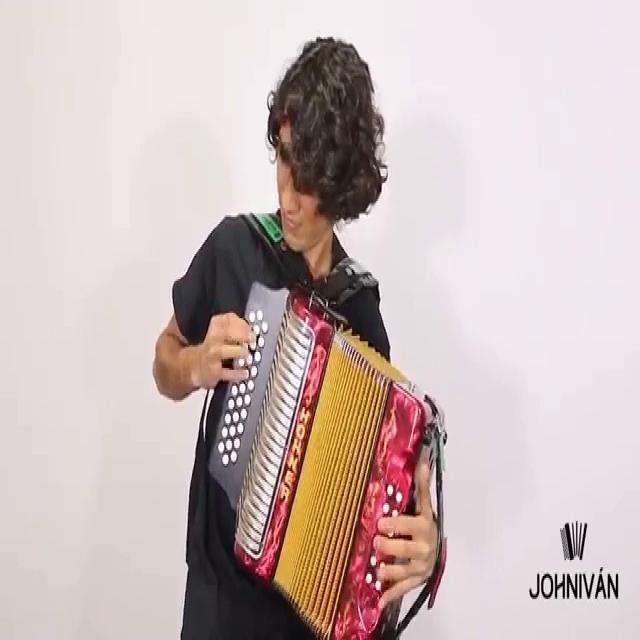Accordion: (193, 263, 460, 640)
